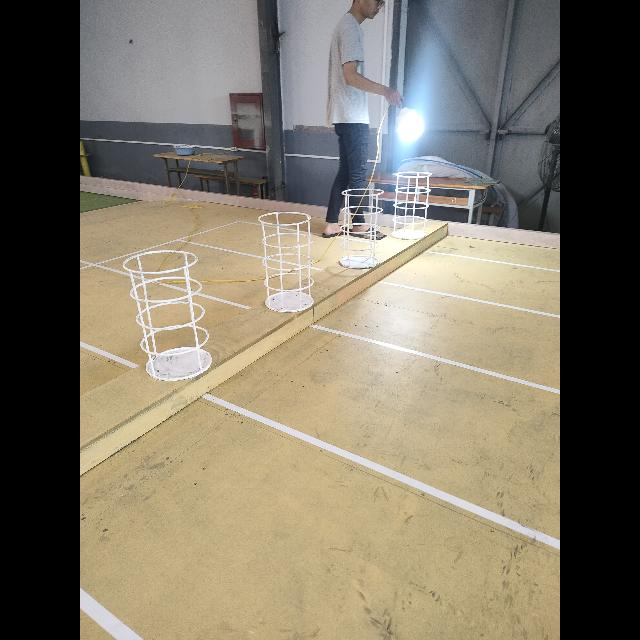S: (122, 251, 212, 383), (257, 210, 313, 314), (338, 187, 384, 269), (392, 171, 431, 241)
